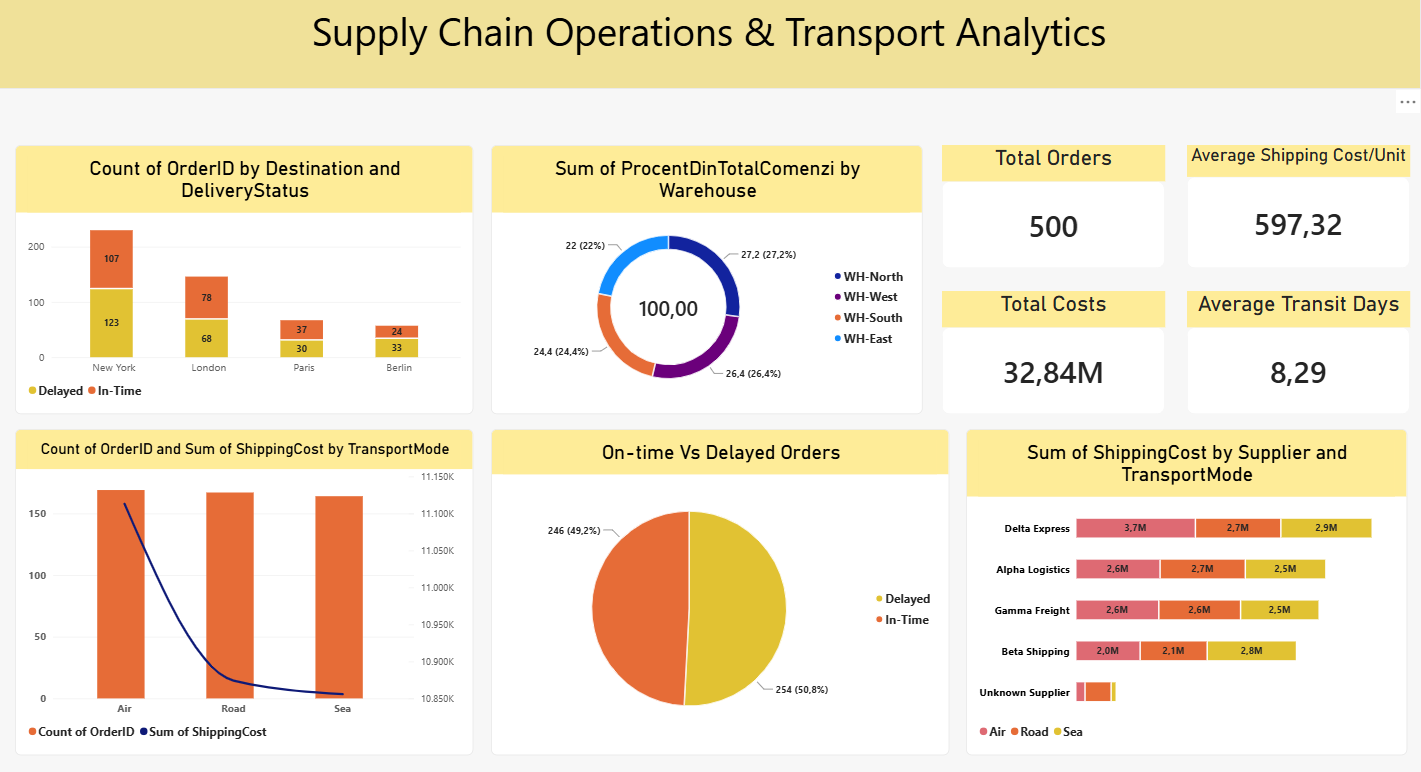

The dashboard page shown, as its layout file describes it:
{"tool":"powerbi","page":{"name":"Page 1","canvas":[1920,1080],"ordinal":0},"visuals":[{"type":"cardVisual","title":"Total Costs","fields":{"Data":["Sum(supply_chain_cleaned1.ShippingCost)"]},"box":[1274.2,429.6,300.6,166.3],"z":0},{"type":"cardVisual","title":"Average Transit Days","fields":{"Data":["Avg(supply_chain_cleaned1.TransitDays)"]},"box":[1604,429.6,300.6,166.3],"z":1000},{"type":"cardVisual","title":"Total Orders","fields":{"Data":["Count(supply_chain_cleaned1.OrderID)"]},"box":[1274.2,232.8,300.6,166.3],"z":2000},{"type":"cardVisual","title":"Average Shipping Cost/Unit","fields":{"Data":["Avg(supply_chain_cleaned1.ShippingCostPerUnit)"]},"box":[1604,232.8,300.6,166.3],"z":3000},{"type":"pieChart","title":"On-time Vs Delayed Orders","fields":{"Category":["supply_chain_cleaned1.DeliveryStatus"],"Y":["CountNonNull(supply_chain_cleaned1.OrderID)"]},"box":[666.4,615.8,618.5,440.2],"z":4000},{"type":"lineStackedColumnComboChart","fields":{"Category":["supply_chain_cleaned1.TransportMode"],"Y":["CountNonNull(supply_chain_cleaned1.OrderID)"],"Y2":["Sum(supply_chain_cleaned1.ShippingCost)"]},"box":[23.9,615.8,618.5,440.2],"z":5000},{"type":"barChart","fields":{"Category":["supply_chain_cleaned1.Supplier"],"Series":["supply_chain_cleaned1.TransportMode"],"Y":["Sum(supply_chain_cleaned1.ShippingCost)"]},"box":[1306.1,615.8,594.5,440.2],"z":6000},{"type":"columnChart","fields":{"Category":["supply_chain_cleaned1.Destination"],"Series":["supply_chain_cleaned1.DeliveryStatus"],"Y":["CountNonNull(supply_chain_cleaned1.OrderID)"]},"box":[23.9,232.8,618.5,363.1],"z":6001},{"type":"donutChart","fields":{"Category":["vw_PondereDepozite_Optimizat (2).Warehouse"],"Y":["Sum(vw_PondereDepozite_Optimizat (2).ProcentDinTotalComenzi)"]},"box":[666.1,233.3,582.5,362.7],"z":6002},{"type":"shape","box":[0,0,1920,157.8],"z":6003}]}

Visuals, with their boxes on the page's 1920x1080 design canvas (x1, y1, x2, y2). These are canvas units, not pixel positions in the 1421x772 screenshot, which may show the page scaled, cropped or inside an application window:
"Total Costs" cardVisual: detection(1274, 430, 1575, 596)
"Average Transit Days" cardVisual: detection(1604, 430, 1905, 596)
"Total Orders" cardVisual: detection(1274, 233, 1575, 399)
"Average Shipping Cost/Unit" cardVisual: detection(1604, 233, 1905, 399)
"On-time Vs Delayed Orders" pieChart: detection(666, 616, 1285, 1056)
lineStackedColumnComboChart - supply_chain_cleaned1.TransportMode x CountNonNull(supply_chain_cleaned1.OrderID): detection(24, 616, 642, 1056)
barChart - supply_chain_cleaned1.Supplier x supply_chain_cleaned1.TransportMode: detection(1306, 616, 1901, 1056)
columnChart - supply_chain_cleaned1.Destination x supply_chain_cleaned1.DeliveryStatus: detection(24, 233, 642, 596)
donutChart - vw_PondereDepozite_Optimizat (2).Warehouse x Sum(vw_PondereDepozite_Optimizat (2).ProcentDinTotalComenzi): detection(666, 233, 1249, 596)
shape: detection(0, 0, 1920, 158)
